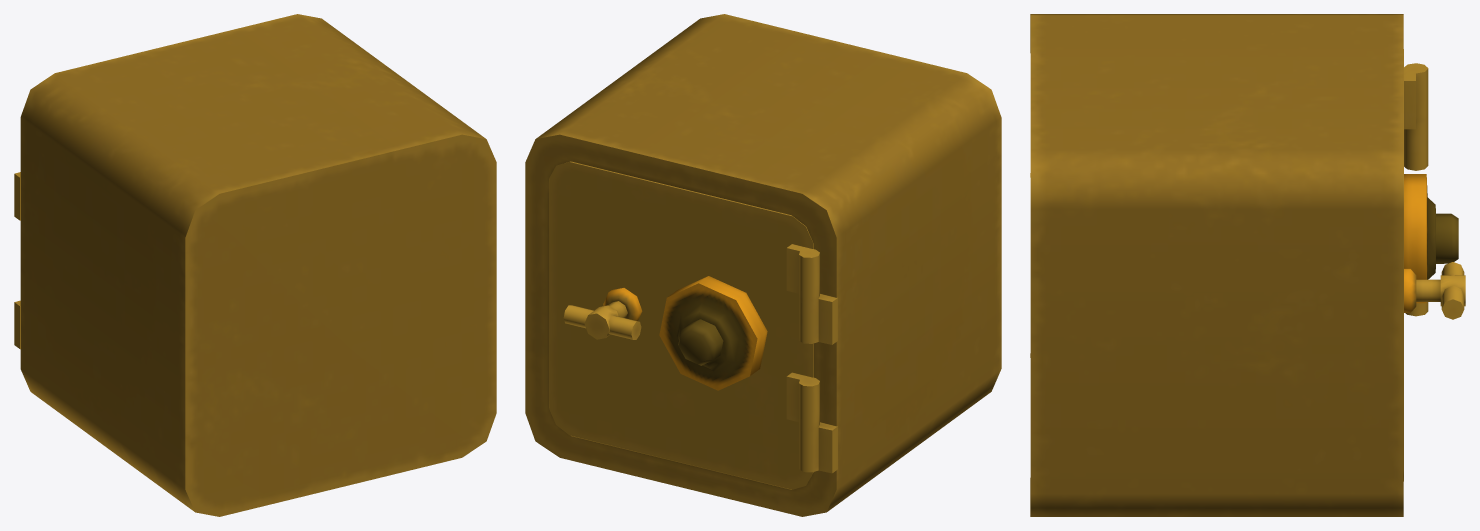
Rendered from Prfb_Safe__3.fbx.
3 renders of one model, left to right at view 1: azimuth 30°, elevation 25°; view 2: azimuth 150°, elevation 25°; view 3: azimuth 270°, elevation 25°, orthographic. The views are drawn at different scales.
Parts seen in each view (by area): view 1: Mat_Safe_Gold; view 2: Mat_Safe_Gold; view 3: Mat_Safe_Gold.
Part boxes in pixels (bbox=[...]): Mat_Safe_Gold: bbox=[14, 14, 496, 516]; Mat_Safe_Gold: bbox=[525, 14, 1001, 516]; Mat_Safe_Gold: bbox=[1030, 14, 1465, 516].
Bounding box in the file's own units: 0.5984 × 0.592 × 0.6381.
Materials: 1 (1 with a texture image).
